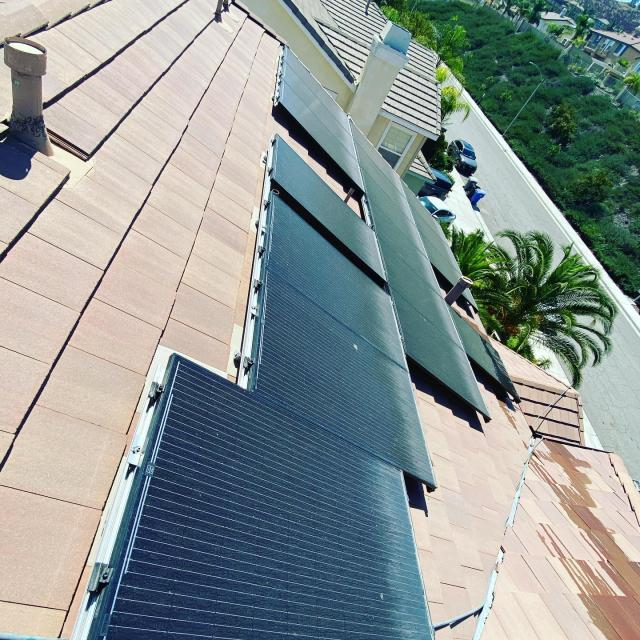dust-solar-panel: (85, 47, 484, 640)
